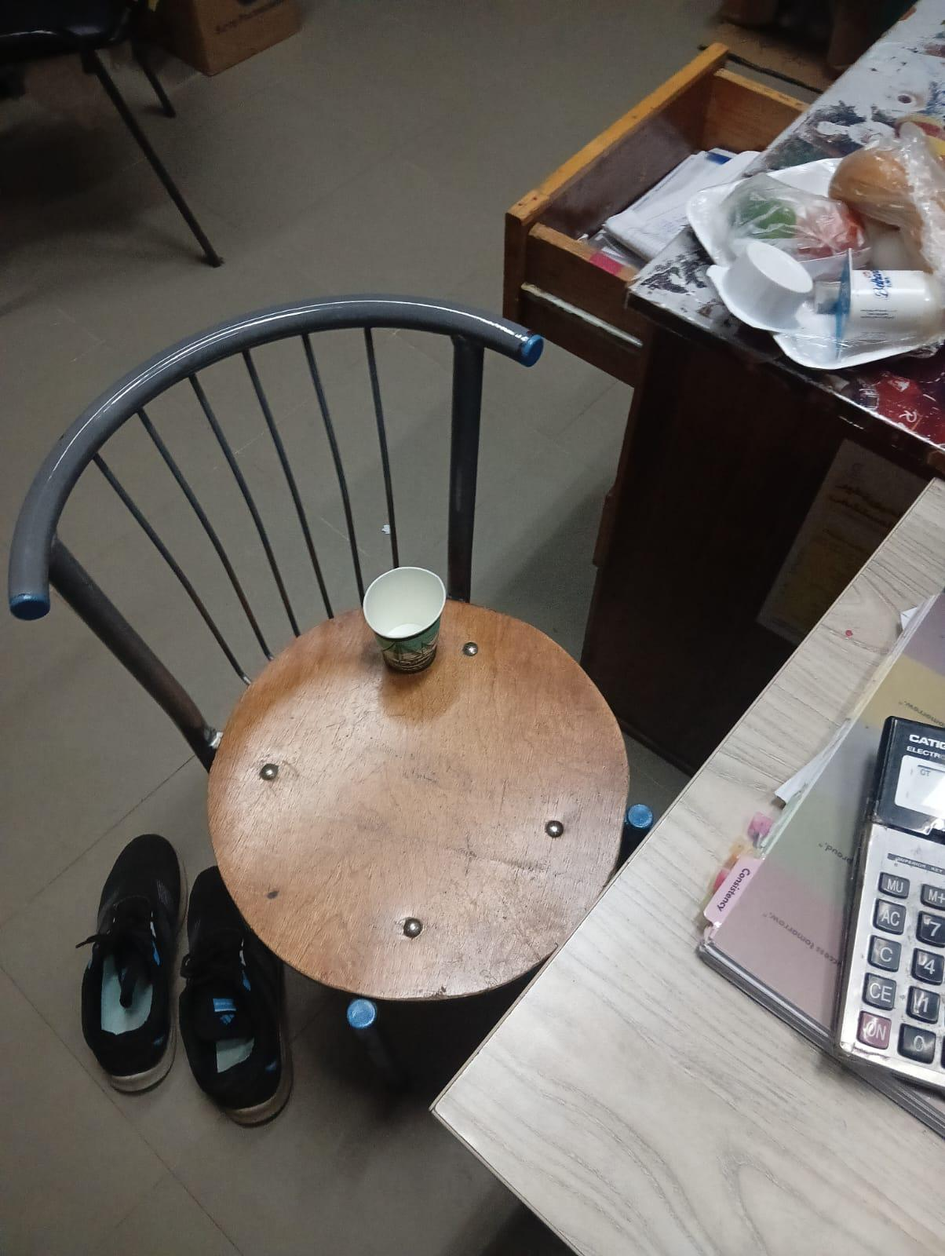cup: (363, 567, 445, 671)
